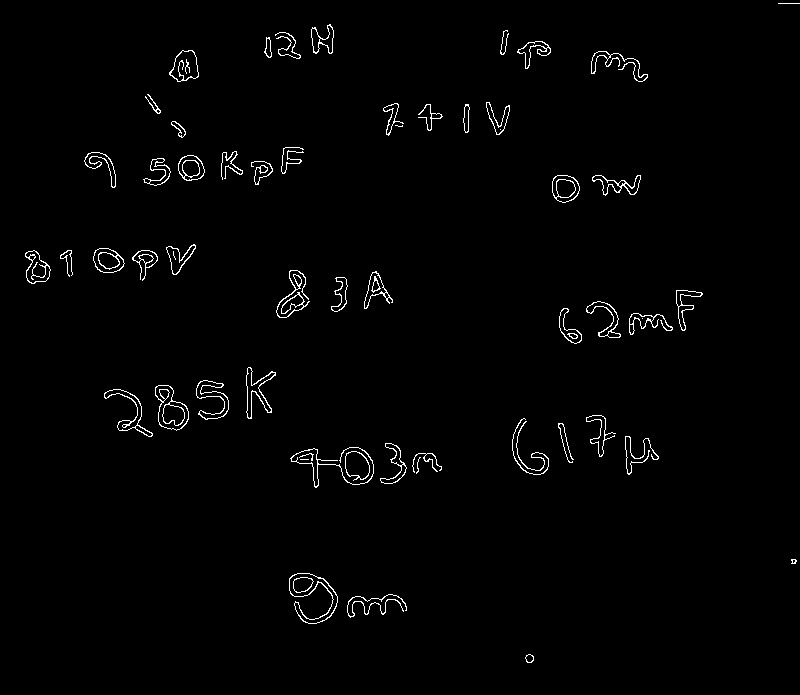0: (336, 444, 377, 489), (547, 171, 582, 207), (90, 245, 127, 276), (174, 152, 208, 184)
1: (555, 421, 575, 465), (58, 247, 76, 279), (461, 100, 473, 136), (498, 28, 511, 58), (263, 35, 274, 61)
2: (100, 384, 154, 438), (582, 297, 623, 341), (273, 29, 304, 61)
3: (377, 438, 409, 489), (328, 273, 350, 316)
4: (286, 445, 341, 490), (414, 101, 449, 139)
5: (191, 376, 231, 424), (140, 154, 172, 189)
6: (506, 413, 553, 477), (554, 306, 585, 347)
7: (583, 411, 618, 459), (381, 100, 405, 138)
8: (273, 266, 312, 323), (151, 380, 191, 433), (22, 246, 54, 288)
9: (284, 569, 340, 628), (83, 148, 119, 190)
A: (363, 270, 394, 311)
F: (674, 287, 704, 331), (279, 143, 306, 171)
V: (165, 243, 198, 277), (482, 100, 510, 137)
k: (242, 362, 277, 422), (217, 148, 245, 183)
m: (588, 48, 649, 85), (345, 590, 408, 621), (589, 172, 645, 198), (626, 309, 677, 336)
n: (409, 449, 446, 478)
p: (516, 38, 553, 70), (130, 247, 160, 282), (248, 158, 275, 189)
u: (621, 432, 659, 480), (310, 22, 339, 56)
